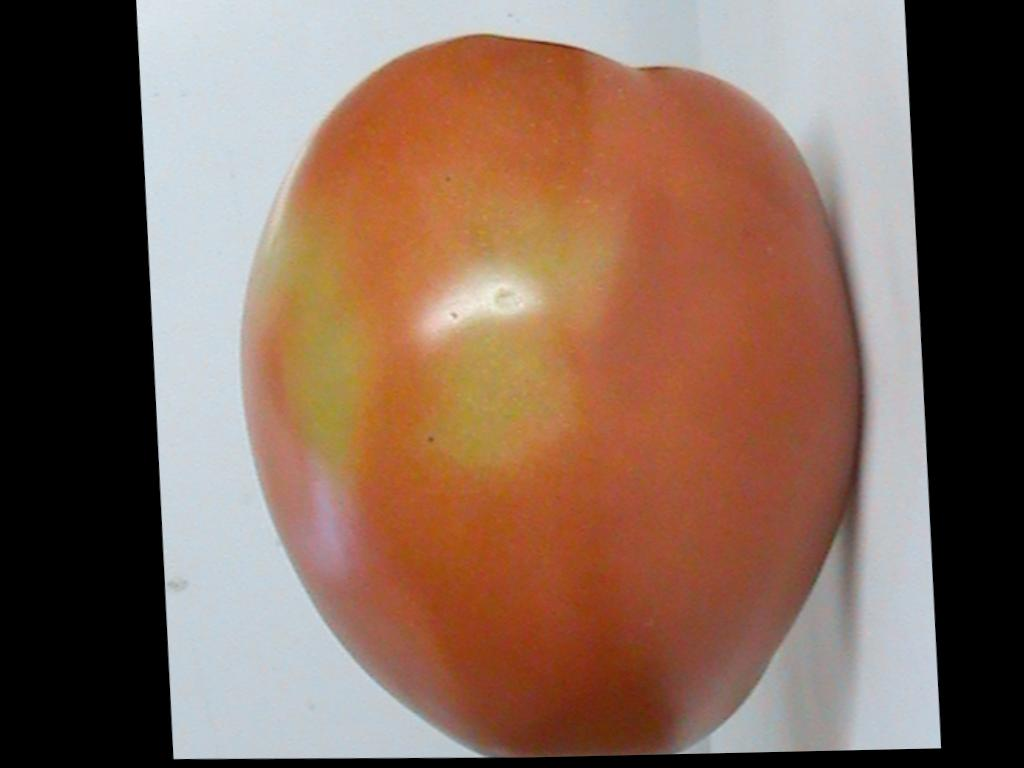bruise_discoloration: (373, 211, 612, 466), (255, 166, 376, 471)
tomato: (241, 35, 854, 757)
